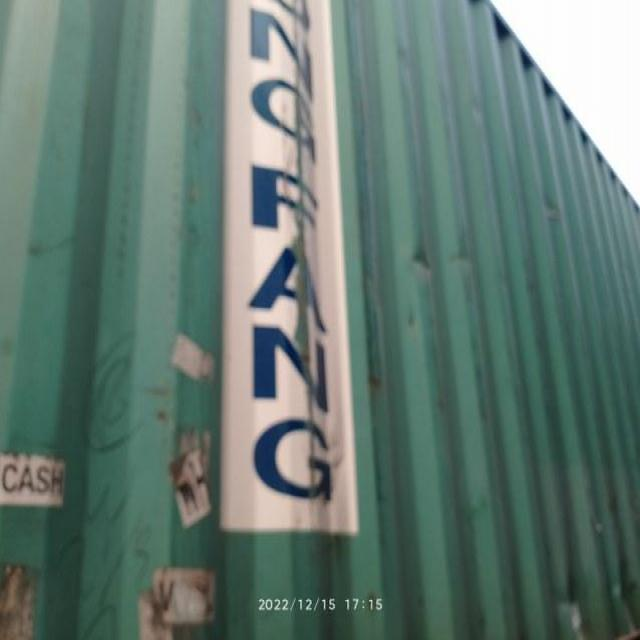Minor-Dent: (617, 548, 640, 640), (564, 589, 587, 640), (452, 229, 473, 276), (410, 240, 432, 277)
